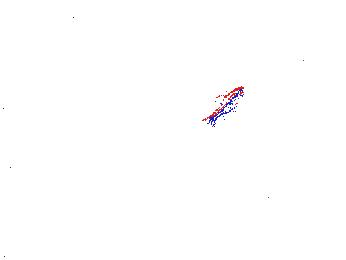red belly glassfish: (203, 86, 246, 125)
